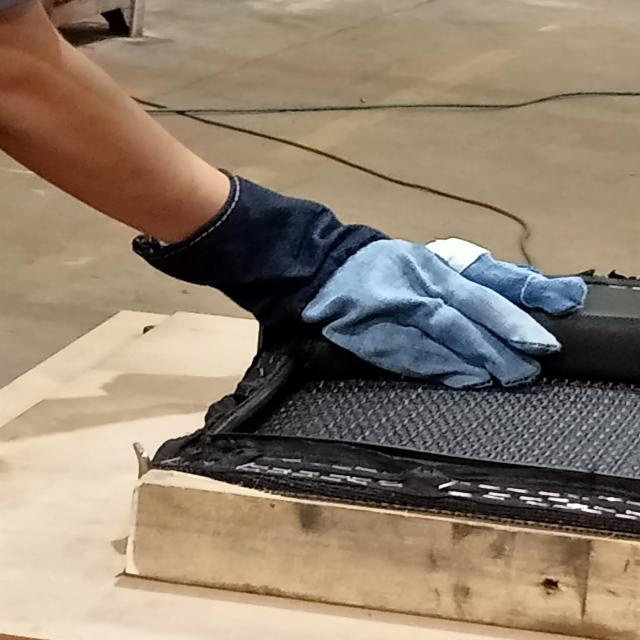Gloves-Detection: (222, 161, 556, 378)
